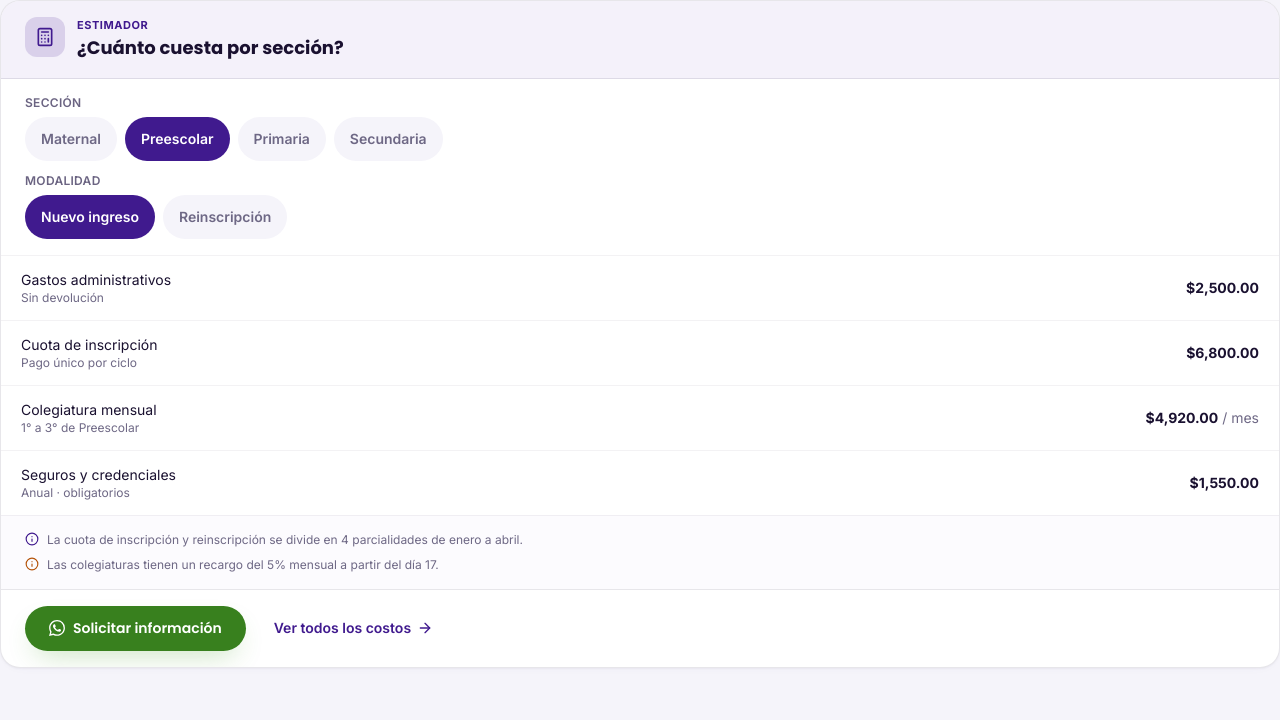
it: CostEstimator › Maternal (no enrollment fee row) shows SIN COSTO like CostosPage
Expected: the text "$6,800.00" is shown, [1186,342,1259,362]
Click the button "Maternal". click: (71, 138)
box: [25,116,117,160]
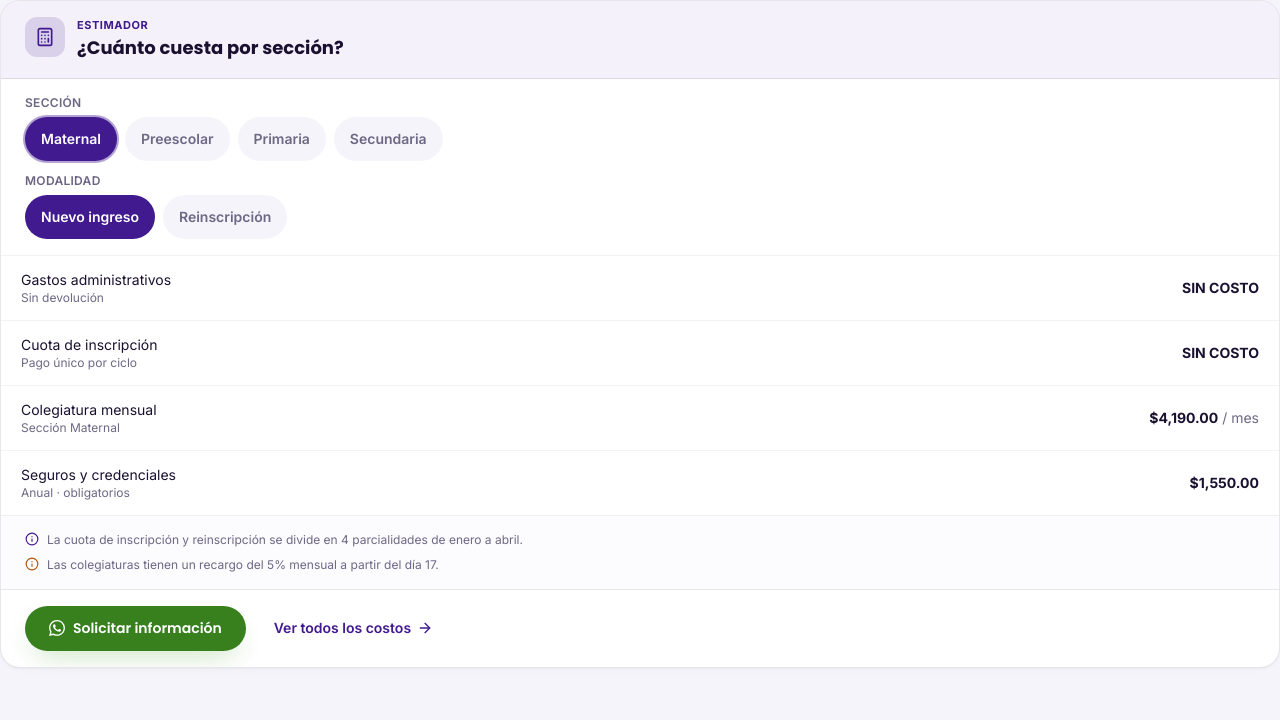
Expected: the text "SIN COSTO" is shown 2 times, [1182,278,1259,298]; [1182,342,1259,362]
Result: the text "$4,190.00" is shown at [1149,408,1218,426]
